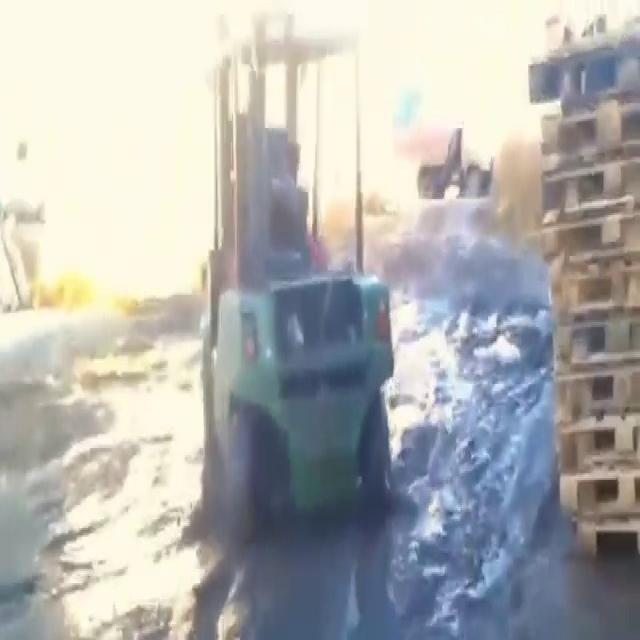Chariot elevateur: (194, 14, 404, 521)
